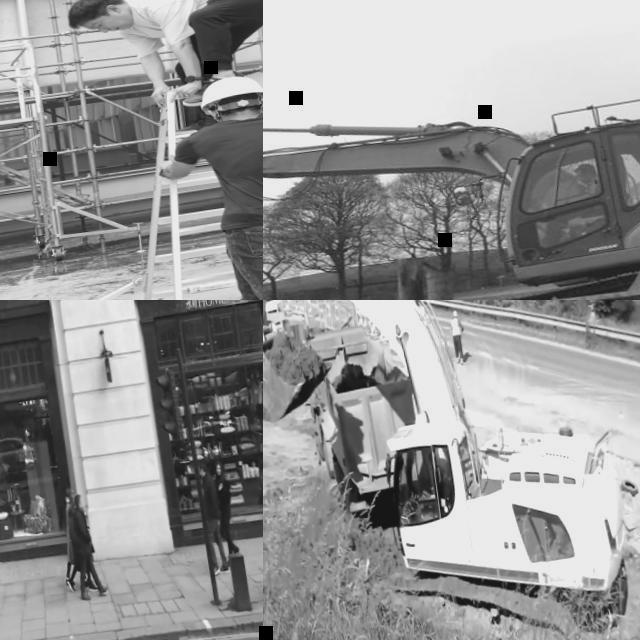helmet: (197, 70, 263, 110), (453, 310, 458, 316)
machinery: (263, 300, 640, 640), (263, 10, 640, 300), (299, 316, 433, 534)
no_helmet: (65, 0, 114, 30), (574, 162, 595, 174), (66, 484, 76, 498), (76, 492, 84, 503), (198, 462, 206, 471), (72, 494, 78, 504), (215, 460, 222, 468)
no_mask: (108, 12, 133, 32), (80, 499, 85, 510), (201, 470, 206, 478), (218, 472, 223, 476)
no_vest: (190, 103, 263, 224), (127, 0, 263, 37), (73, 512, 91, 562), (62, 501, 76, 552), (68, 511, 82, 556)
person: (145, 64, 263, 300), (63, 0, 263, 121), (532, 160, 610, 249), (68, 492, 112, 603), (57, 494, 100, 596), (195, 460, 232, 578), (53, 483, 91, 592), (210, 456, 243, 566), (414, 454, 448, 517), (449, 310, 469, 366)
vehicle: (263, 300, 281, 327)
vest: (451, 318, 462, 338)
